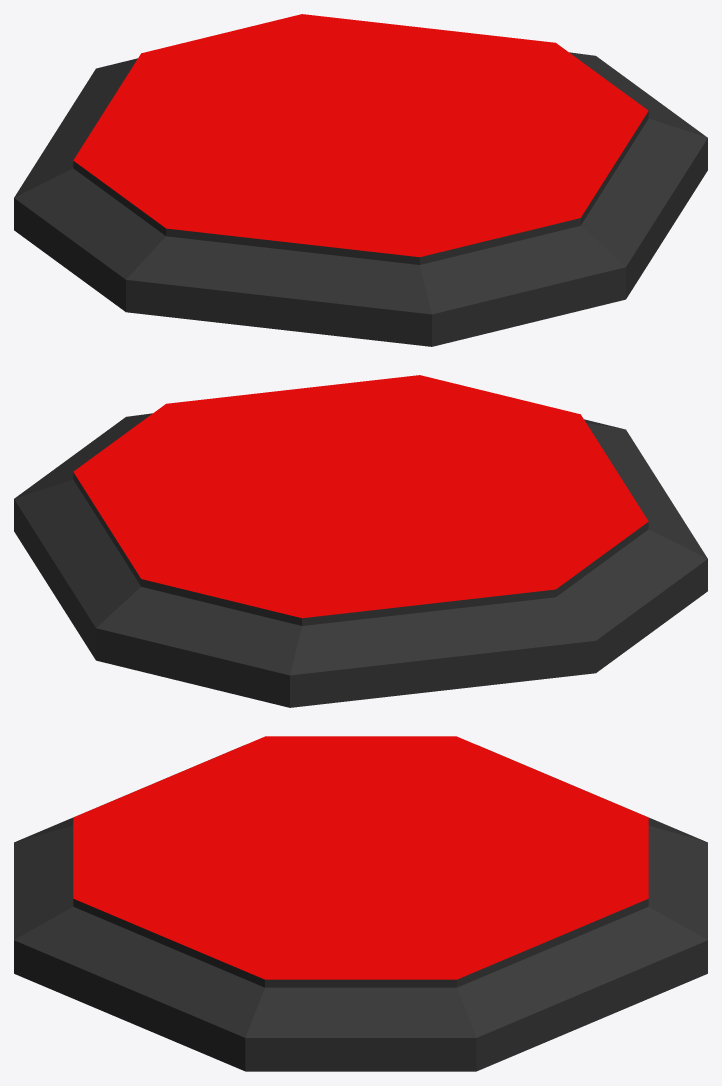
Rendered from SavePoint.fbx.
3 renders of one model, top to bottom at view 1: azimuth 30°, elevation 25°; view 2: azimuth 150°, elevation 25°; view 3: azimuth 270°, elevation 25°, orthographic. The views are drawn at different scales.
Visible parts, largest first — view 1: 立方体; view 2: 立方体; view 3: 立方体.
Boxes of the visible parts, left/top/right/bottom form: 立方体: left=14, top=14, right=707, bottom=346; 立方体: left=14, top=375, right=707, bottom=707; 立方体: left=14, top=736, right=707, bottom=1071.
Bounding box in the file's own units: 236 × 24.99 × 236.
